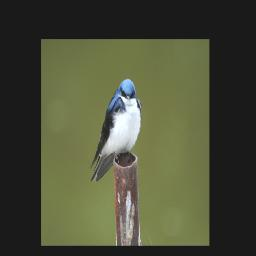Swallow: (89, 78, 142, 183)
